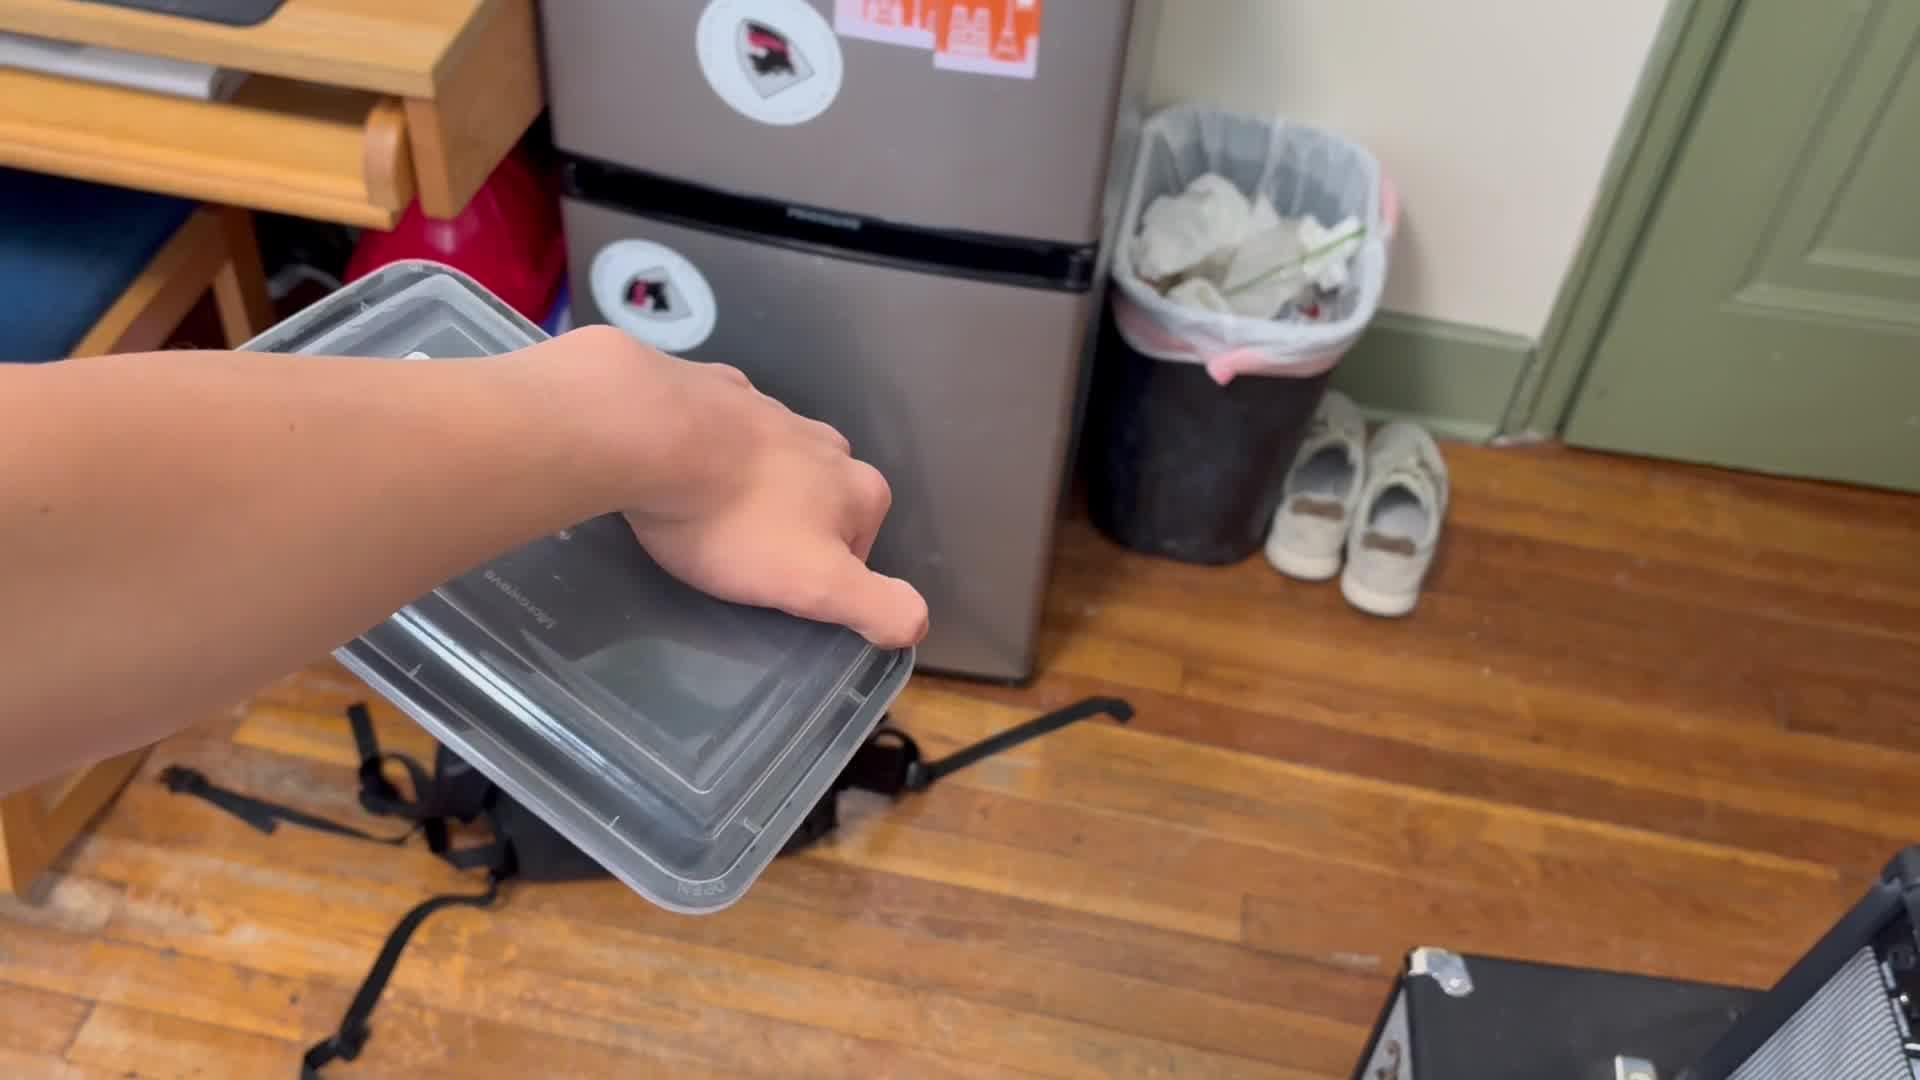lp_cup_lids: (178, 252, 920, 910)
